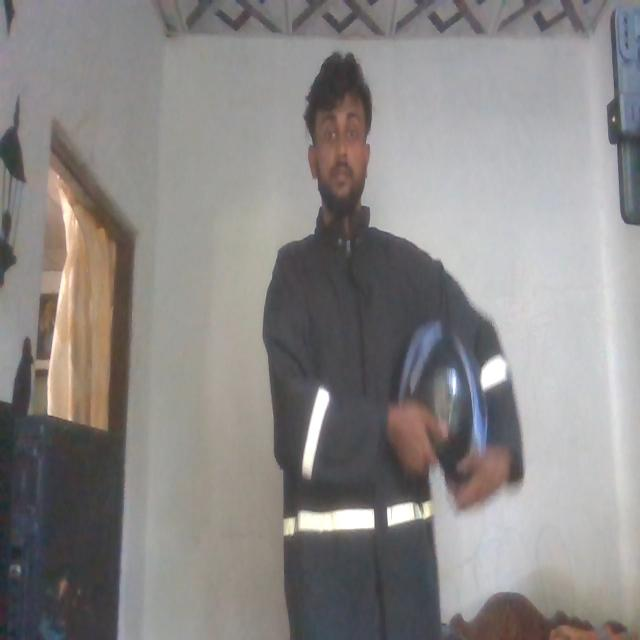Jacket_Wearer: (261, 209, 523, 636)
Person: (266, 45, 484, 640)
